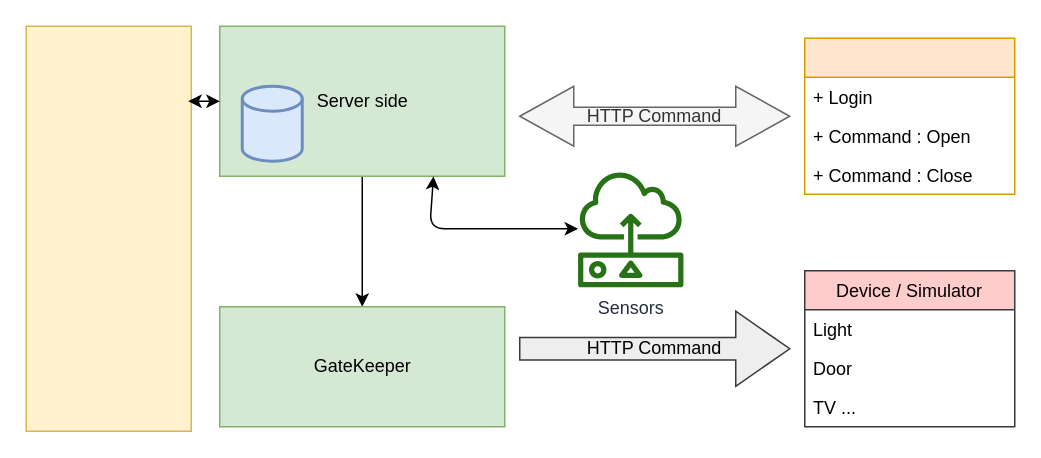
Some shapes in this 1041 by 458 pixel diagram are drawn without their labels. Each missing label, with the box of its shape:
Admin Dashboard: (25, 25, 191, 431)
DB: (240, 84, 303, 162)
Mobile App -Remote: (803, 37, 1015, 194)
